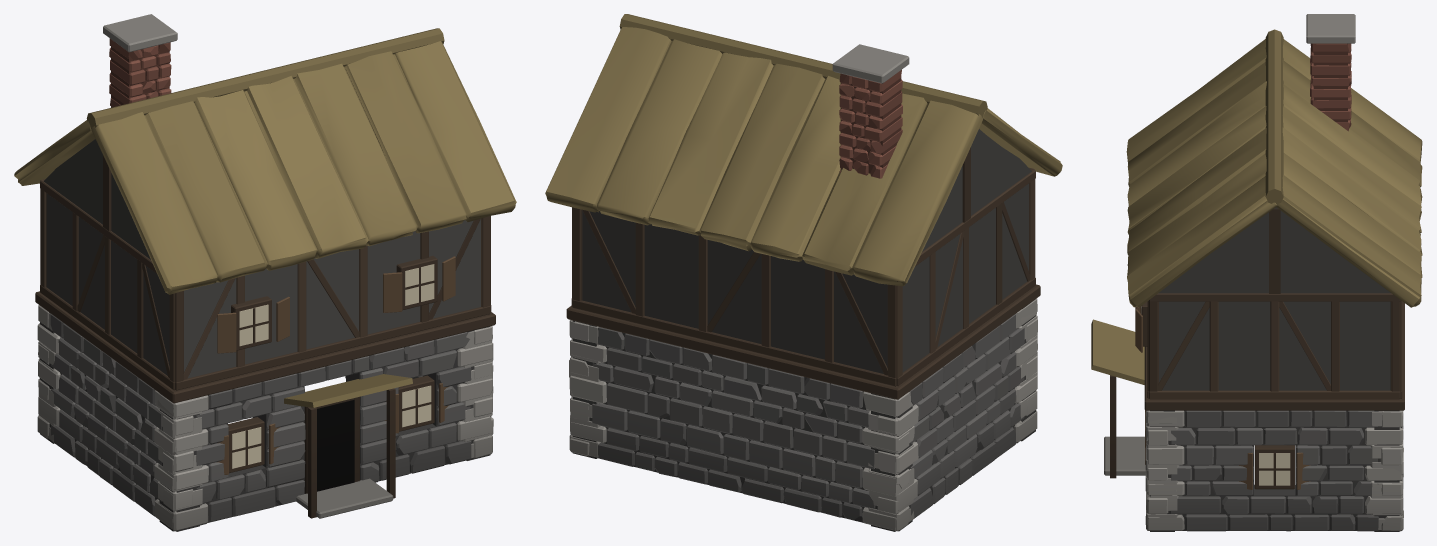
The model's file is house_intact_door.glb.
3 views of the same model, side by side, from view 1: azimuth 30°, elevation 25°; view 2: azimuth 150°, elevation 25°; view 3: azimuth 270°, elevation 25° (orthographic). The views are drawn at different scales.
Parts seen in each view (by area): view 1: house_intact_door; view 2: house_intact_door; view 3: house_intact_door.
Part boxes in pixels (box(x1,y1,x2,y2)): house_intact_door: box(14, 14, 516, 531); house_intact_door: box(545, 14, 1062, 531); house_intact_door: box(1091, 14, 1422, 531).
Size of what is drawn, in the model's own units: 8.48 by 9.6 by 7.38.
